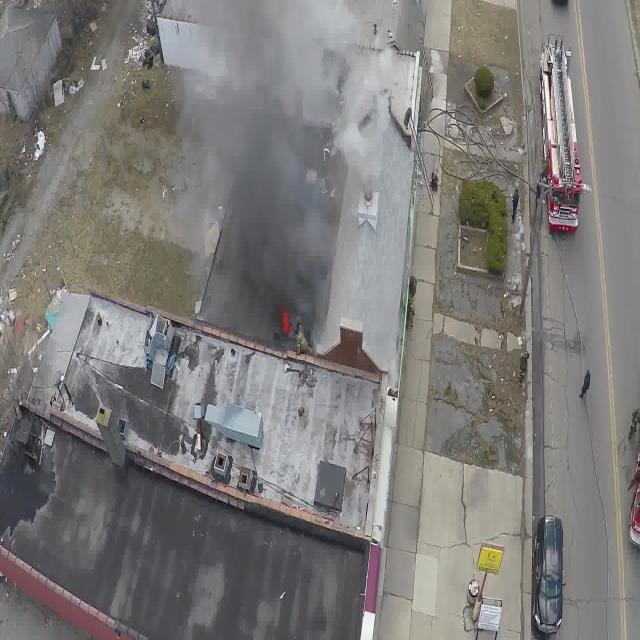Smoke: (192, 0, 346, 329)
